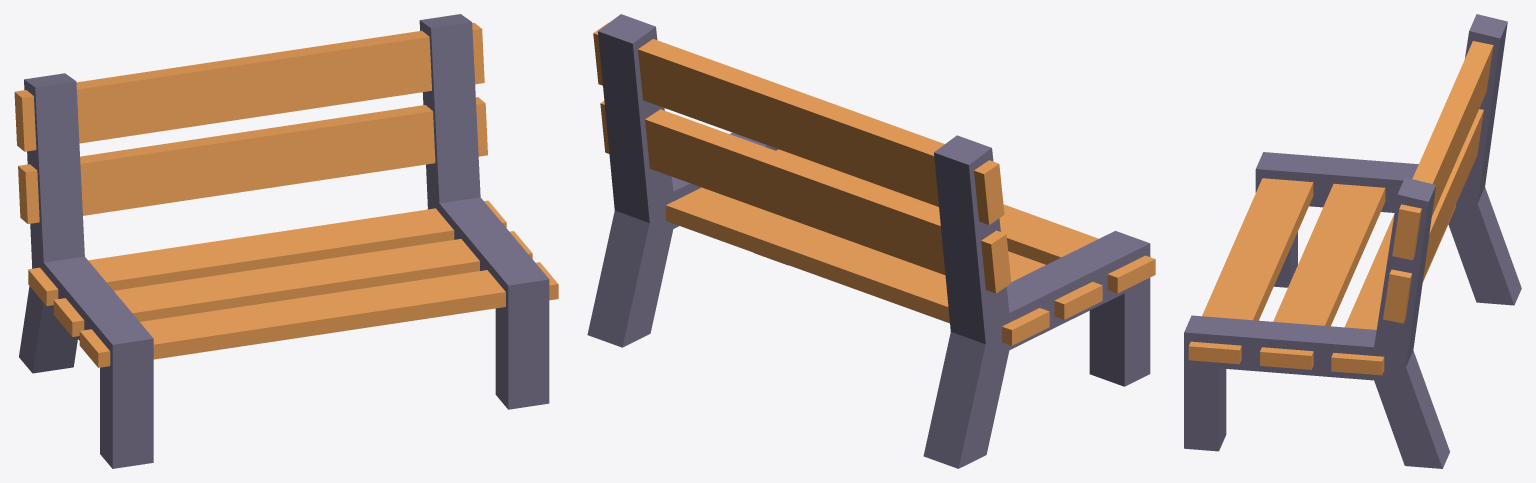
The model's file is bench.glb.
3 renders of one model, left to right at view 1: azimuth 30°, elevation 25°; view 2: azimuth 150°, elevation 25°; view 3: azimuth 270°, elevation 25°, orthographic. The views are drawn at different scales.
Visible parts, largest first — view 1: benchPhysicalDynamic; view 2: benchPhysicalDynamic; view 3: benchPhysicalDynamic.
Part boxes in pixels (x1,y1,x2,y2): benchPhysicalDynamic: (14, 14, 558, 468); benchPhysicalDynamic: (587, 14, 1155, 468); benchPhysicalDynamic: (1184, 14, 1521, 468).
Size of the model in its own units: 2.57 by 1.56 by 1.76.
1 material, 1 textured.
